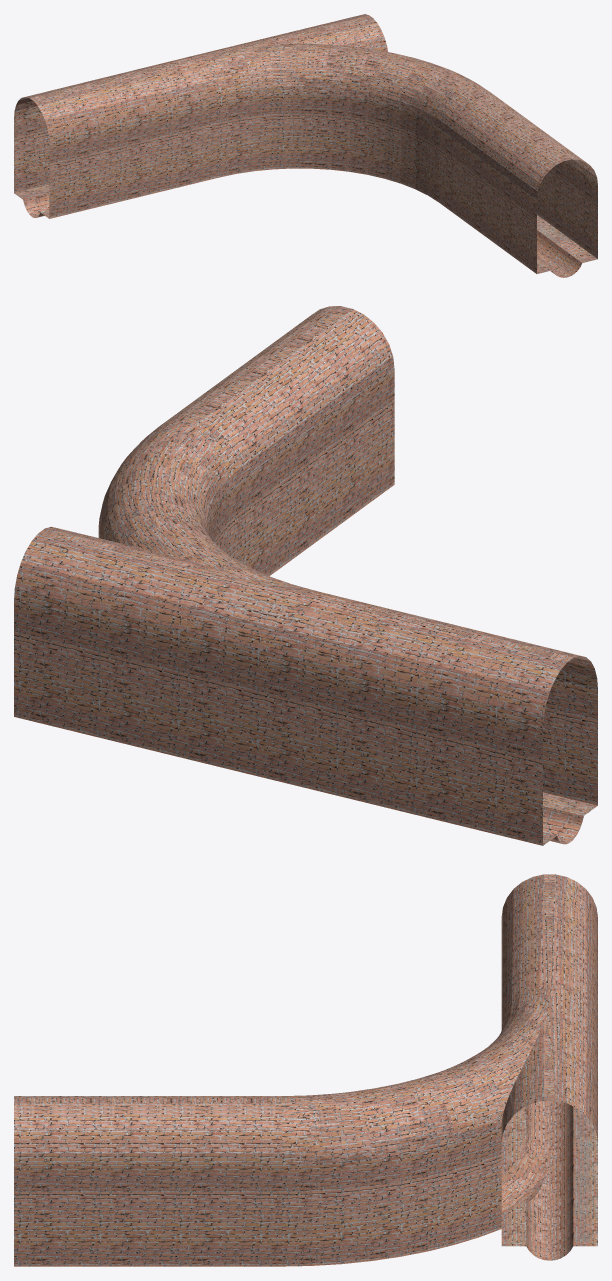
The picture shows the model from 3 angles, top to bottom: view 1: azimuth 30°, elevation 25°; view 2: azimuth 150°, elevation 25°; view 3: azimuth 270°, elevation 25°; orthographic projection. The views are drawn at different scales.
Visible parts, largest first — view 1: SketchUp (×3); view 2: SketchUp (×2); view 3: SketchUp (×5).
Boxes of the visible parts, <box> form: SketchUp (×3): <box>14,14,597,277</box>; SketchUp (×2): <box>14,306,597,845</box>; SketchUp (×5): <box>14,874,597,1266</box>.
Size of the model in its own units: 215 by 215 by 64.96.
